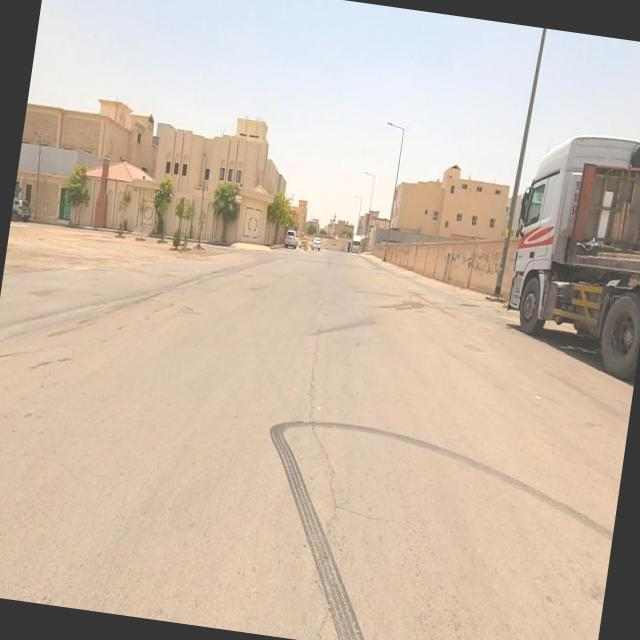debris: (430, 213, 525, 304)
